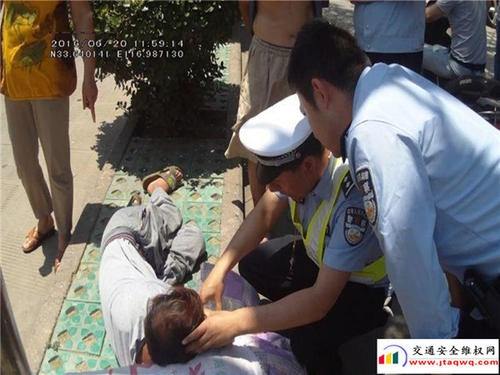falling: (90, 155, 211, 371)
